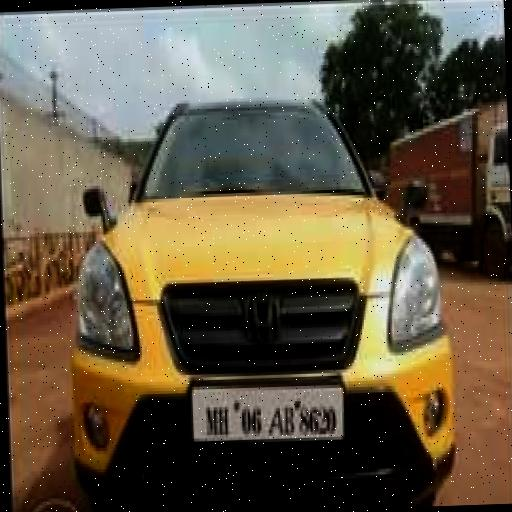license_plate`: (188, 378, 341, 442)
